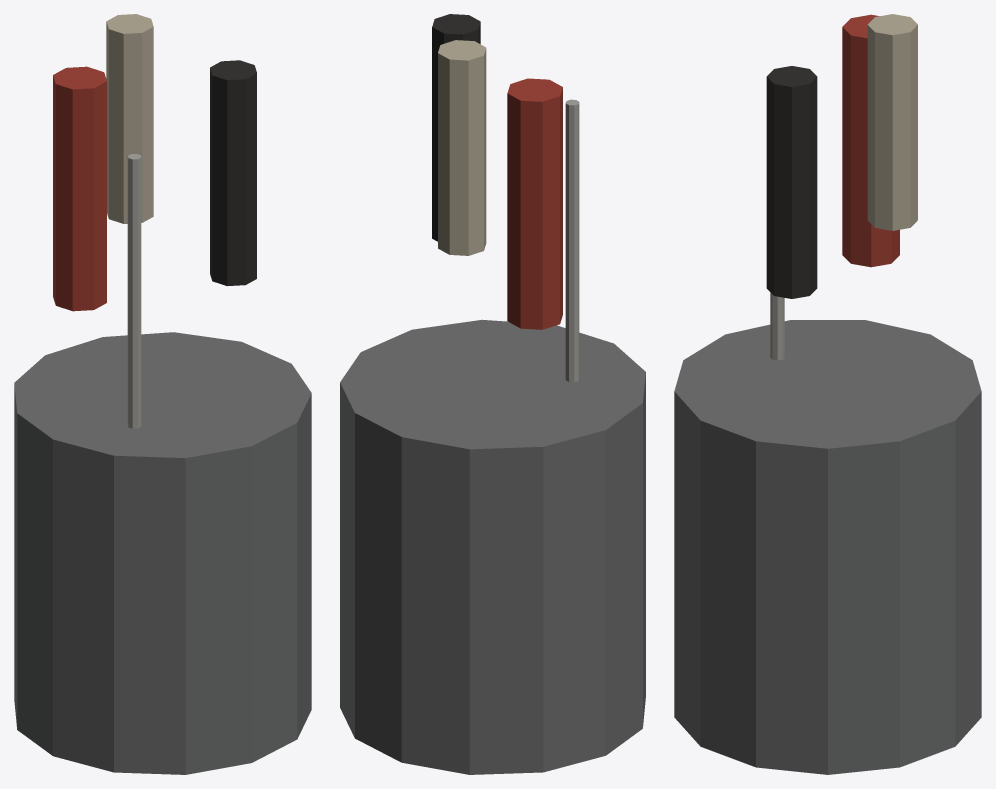
The model's file is repair-tool-cup.glb.
The picture shows the model from 3 angles, left to right: view 1: azimuth 30°, elevation 25°; view 2: azimuth 150°, elevation 25°; view 3: azimuth 270°, elevation 25°; orthographic projection. The views are drawn at different scales.
Parts seen in each view (by area): view 1: metal, accent-warm, plastic-dark, plastic-light, brushed; view 2: metal, accent-warm, plastic-light, brushed, plastic-dark; view 3: metal, plastic-dark, plastic-light, accent-warm, brushed.
Boxes of the visible parts, bbox=[...] form: metal: bbox=[14, 332, 311, 774]; accent-warm: bbox=[53, 66, 106, 311]; plastic-dark: bbox=[210, 60, 256, 286]; plastic-light: bbox=[106, 14, 153, 223]; brushed: bbox=[127, 154, 141, 428]; metal: bbox=[340, 319, 645, 774]; accent-warm: bbox=[507, 78, 562, 329]; plastic-light: bbox=[438, 40, 486, 255]; brushed: bbox=[565, 99, 579, 382]; plastic-dark: bbox=[432, 14, 480, 241]; metal: bbox=[674, 320, 981, 774]; plastic-dark: bbox=[766, 66, 817, 298]; plastic-light: bbox=[867, 14, 917, 230]; accent-warm: bbox=[842, 14, 899, 267]; brushed: bbox=[770, 292, 784, 360].
Bounding box in the file's own units: 0.0848 × 0.21 × 0.0854.
